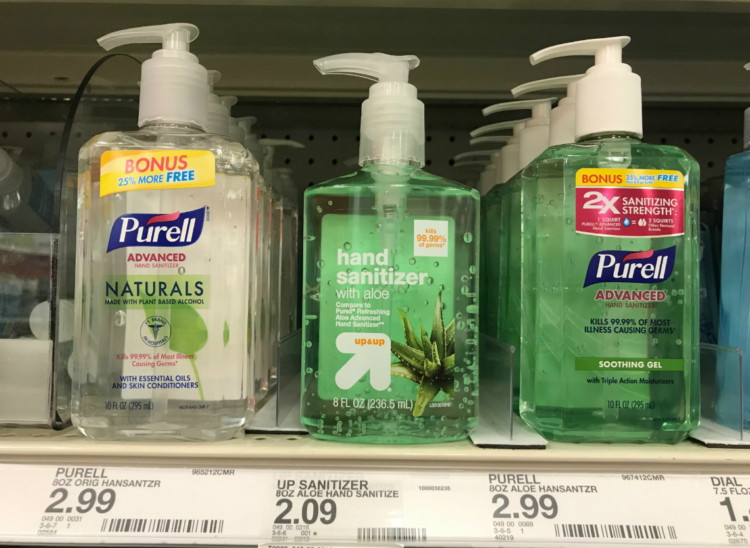Sanitizer: (62, 17, 264, 445), (516, 33, 712, 450), (294, 45, 487, 458)
